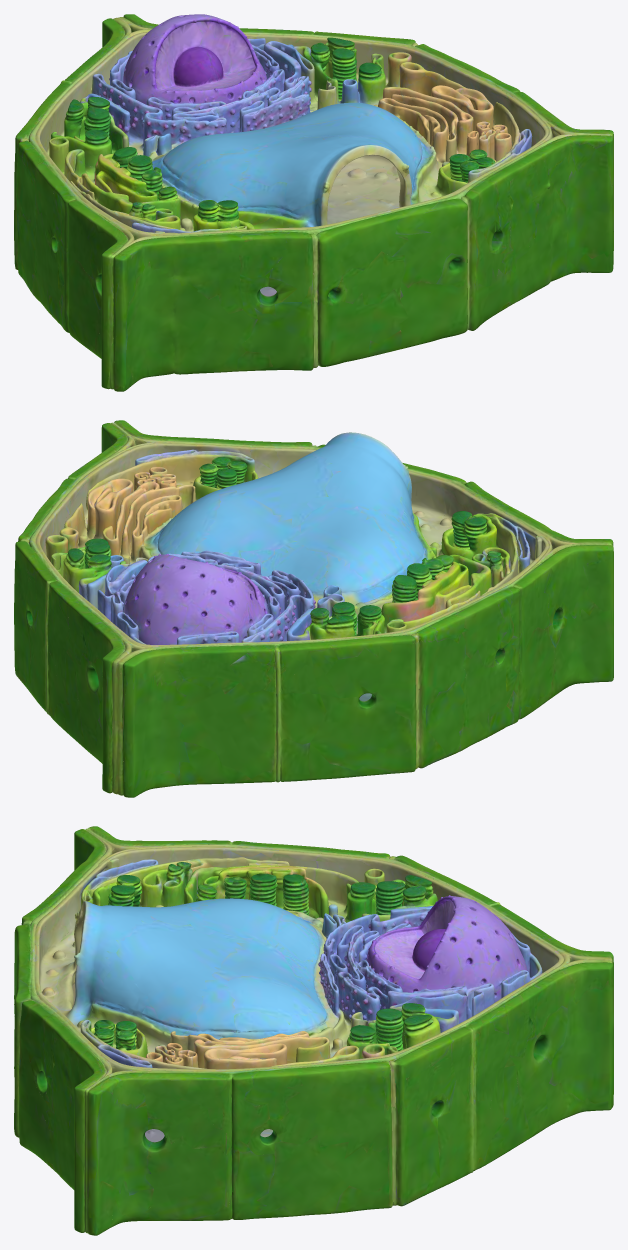
Rendered from plant-cell.glb.
3 renders of one model, top to bottom at view 1: azimuth 30°, elevation 25°; view 2: azimuth 150°, elevation 25°; view 3: azimuth 270°, elevation 25°, orthographic. The views are drawn at different scales.
Parts seen in each view (by area): view 1: plant-cell; view 2: plant-cell; view 3: plant-cell.
Part boxes in pixels (x1,y1,x2,y2): plant-cell: (14, 14, 613, 391); plant-cell: (14, 420, 613, 797); plant-cell: (14, 826, 613, 1235).
Size of the model in its own units: 0.3 by 0.1031 by 0.2837.
Materials: 1 (1 with a texture image).
